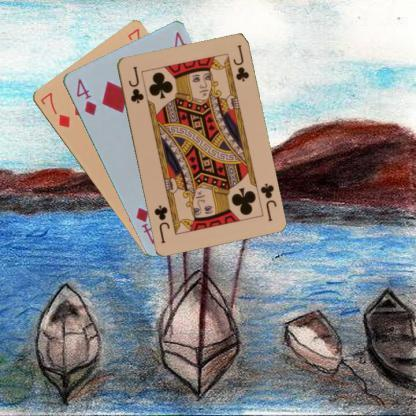4d: (72, 76, 98, 116)
7d: (38, 89, 71, 129)
Jc: (257, 180, 278, 223), (125, 64, 145, 104)
